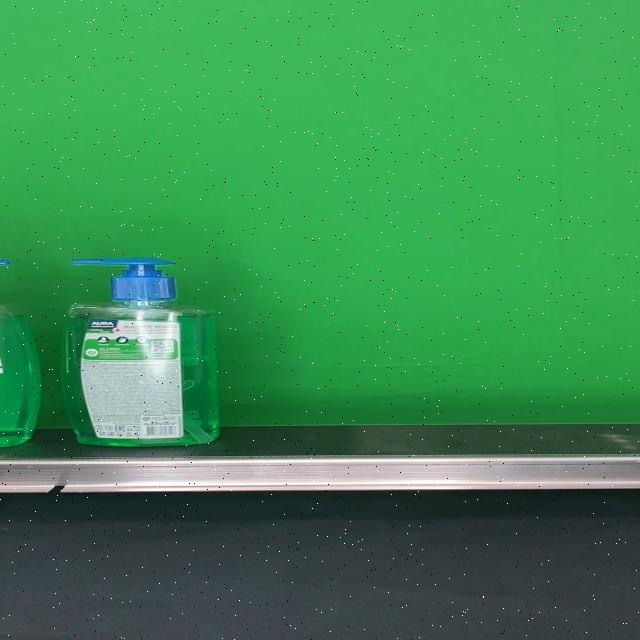Bottle: (61, 258, 220, 446)
Cap: (70, 258, 174, 301)
